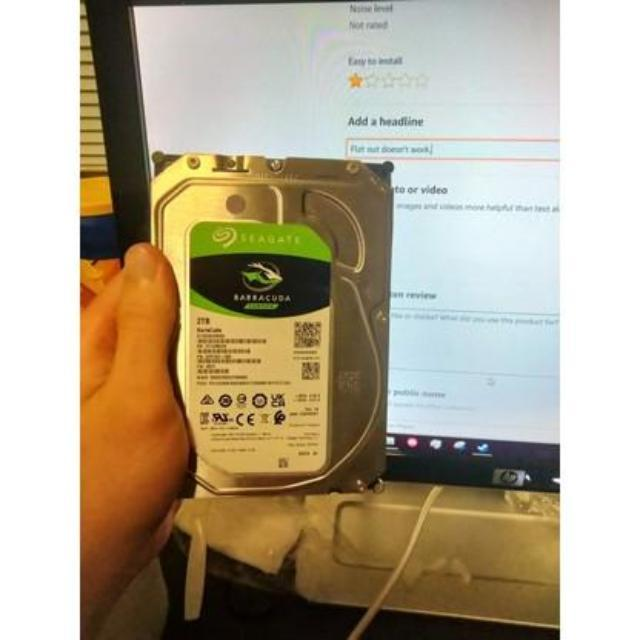DISK: (150, 156, 392, 490)
